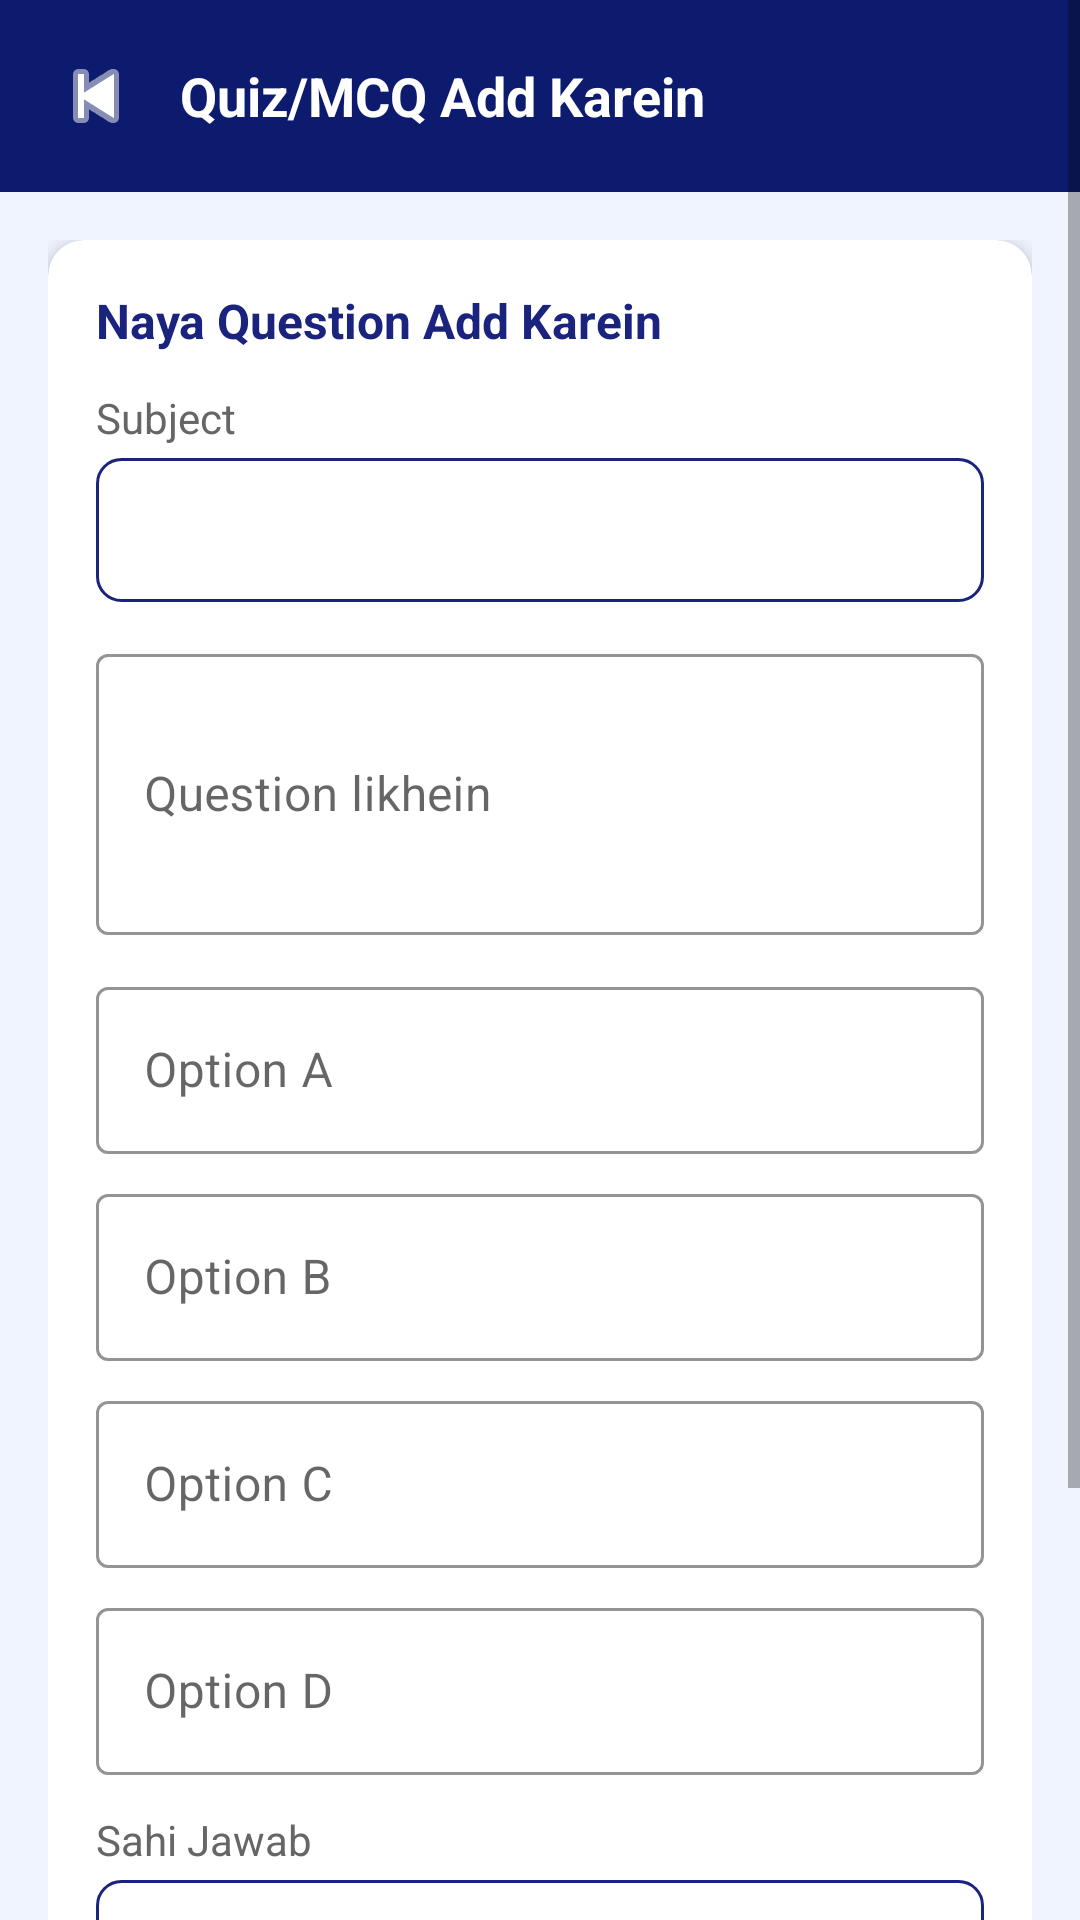

Named icons in this screenshot (1080*1920) and their bounding boxes, (x1, y1, x2, y2):
previous: (73, 69, 119, 123)
